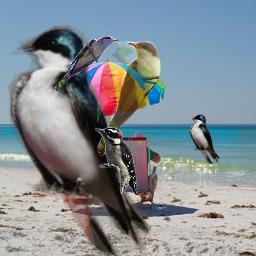Cuckoo: (97, 41, 161, 157), (55, 36, 118, 91)
Swallow: (8, 25, 151, 256), (189, 114, 220, 164)
Woodpecker: (95, 127, 138, 194)
